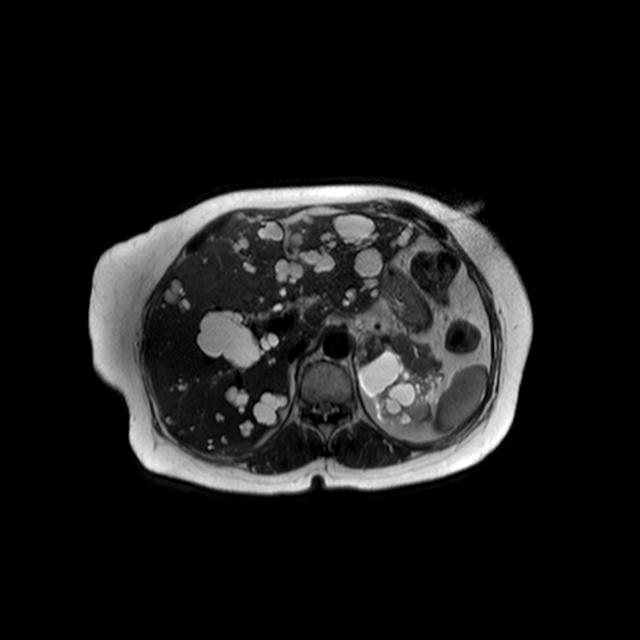sol: (356, 348, 431, 429)
